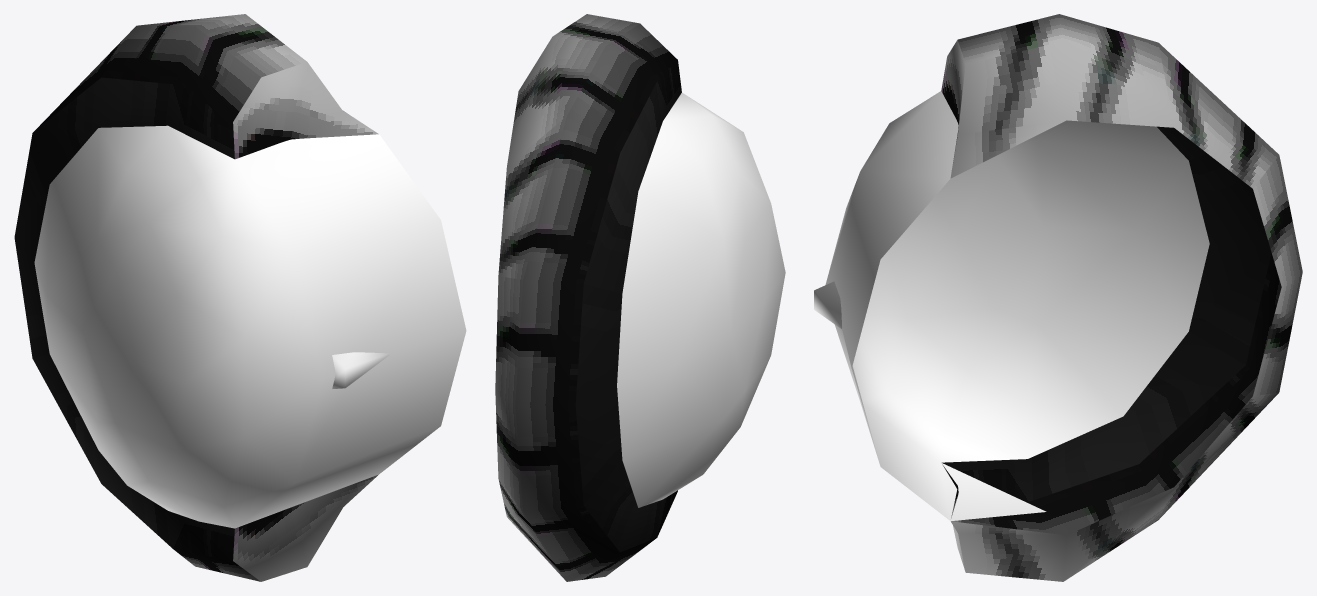
Rendered from girl07b.dae.
3 views of the same model, side by side, from view 1: azimuth 30°, elevation 25°; view 2: azimuth 150°, elevation 25°; view 3: azimuth 270°, elevation 25° (orthographic). The views are drawn at different scales.
Parts seen in each view (by area): view 1: girl07b; view 2: girl07b; view 3: girl07b.
Boxes of the visible parts, x1,y1,x2,y2 form: girl07b: [14, 14, 466, 581]; girl07b: [495, 14, 785, 581]; girl07b: [814, 14, 1302, 581].
Bounding box in the file's own units: 15.5 × 27.73 × 22.56.
3 materials, 1 textured.
